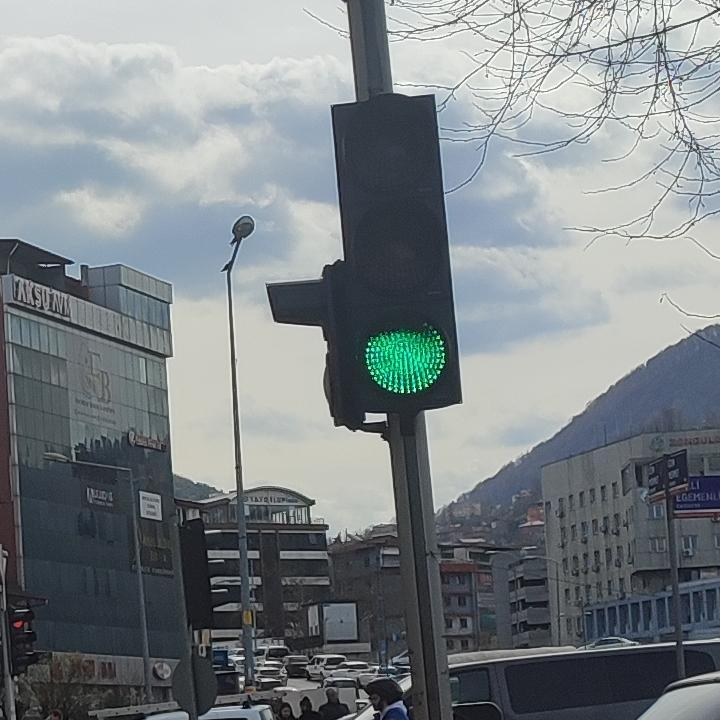green: (319, 89, 471, 413)
